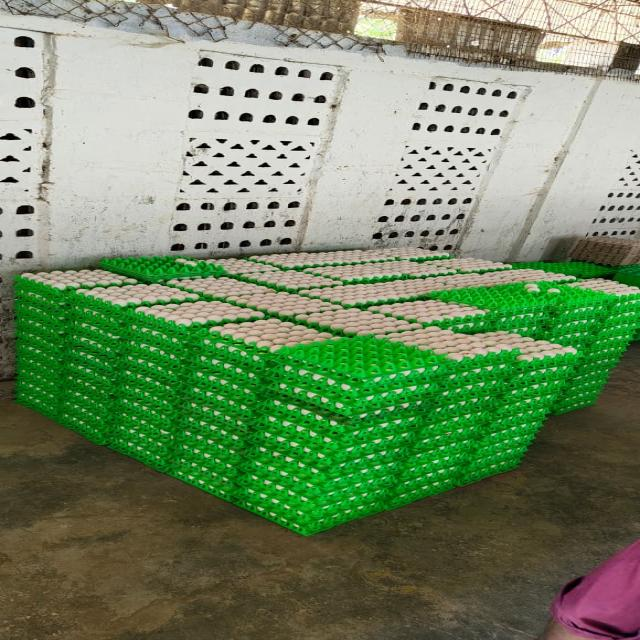egg_tray: (278, 348, 493, 430), (385, 327, 576, 418), (260, 350, 437, 448), (268, 337, 449, 422), (260, 417, 483, 482), (246, 418, 401, 506), (412, 388, 553, 476), (391, 427, 535, 506), (278, 337, 446, 396), (470, 332, 578, 422), (114, 340, 188, 470), (300, 270, 557, 306), (299, 270, 564, 304), (17, 349, 111, 444), (72, 284, 198, 354), (15, 269, 136, 341), (194, 318, 339, 378), (129, 300, 264, 364), (433, 283, 609, 332), (256, 398, 423, 448), (246, 447, 399, 500), (430, 283, 583, 336), (227, 292, 418, 334), (253, 422, 413, 472), (247, 443, 396, 496), (252, 419, 412, 468), (248, 440, 407, 489), (181, 358, 266, 449), (177, 381, 252, 480), (258, 394, 422, 439), (374, 416, 467, 495), (274, 379, 436, 424), (384, 327, 576, 364), (474, 380, 565, 458), (236, 488, 386, 535), (253, 423, 414, 466), (550, 280, 639, 357), (238, 488, 386, 534), (73, 284, 198, 337), (247, 460, 385, 508), (56, 336, 117, 444), (177, 278, 341, 318), (435, 282, 609, 319), (173, 416, 245, 504), (17, 270, 137, 321), (179, 376, 255, 456), (545, 287, 637, 351), (113, 343, 182, 428), (433, 283, 563, 328), (15, 284, 68, 390), (172, 418, 242, 498), (185, 368, 263, 439), (489, 363, 569, 430), (384, 326, 514, 366), (201, 368, 269, 444), (458, 421, 540, 484), (184, 332, 270, 392), (552, 345, 626, 414), (183, 376, 258, 444), (300, 275, 462, 306), (306, 258, 510, 282), (110, 396, 173, 471), (456, 429, 536, 486), (300, 276, 451, 306), (205, 318, 337, 352), (387, 452, 458, 509), (431, 282, 565, 312), (252, 248, 451, 268), (114, 352, 182, 409), (550, 286, 634, 332), (472, 406, 547, 456), (110, 411, 172, 471), (269, 360, 361, 400), (118, 338, 183, 394), (15, 282, 70, 348), (171, 456, 243, 506), (56, 380, 113, 443), (136, 300, 264, 328), (225, 289, 342, 319), (53, 386, 113, 444), (181, 371, 249, 422), (115, 376, 180, 429), (468, 331, 577, 362), (126, 412, 184, 470), (370, 300, 490, 328), (566, 280, 639, 326), (17, 310, 63, 383), (296, 308, 420, 335), (305, 260, 456, 282), (536, 282, 618, 322), (17, 338, 58, 418), (17, 305, 67, 370), (185, 350, 262, 392), (193, 334, 268, 377), (100, 256, 224, 282), (14, 290, 70, 347), (436, 310, 544, 338), (541, 283, 618, 322), (457, 444, 527, 486), (18, 329, 63, 394), (61, 348, 116, 401), (17, 330, 64, 392), (77, 284, 198, 308), (387, 470, 458, 510), (66, 314, 125, 357), (444, 269, 575, 288), (20, 269, 138, 290), (442, 270, 575, 288), (167, 277, 271, 300), (544, 307, 615, 340), (401, 443, 466, 478), (238, 270, 340, 291), (542, 316, 604, 350), (15, 277, 66, 318), (252, 250, 365, 268), (569, 236, 639, 265), (15, 277, 67, 316), (167, 278, 267, 298), (22, 270, 131, 288), (580, 332, 631, 370), (552, 379, 605, 414), (538, 318, 598, 348), (424, 270, 510, 290), (514, 261, 615, 278), (564, 358, 609, 396), (583, 326, 634, 358), (604, 287, 639, 333), (593, 312, 639, 346), (567, 278, 639, 298), (564, 366, 609, 397), (562, 370, 607, 400), (482, 269, 576, 283), (68, 348, 114, 375), (202, 258, 279, 274), (589, 264, 639, 286), (551, 394, 598, 415), (377, 370, 431, 388), (429, 274, 498, 288), (372, 248, 452, 260), (447, 258, 511, 272), (580, 349, 622, 370), (504, 270, 556, 281), (423, 419, 458, 434), (460, 413, 499, 426), (524, 282, 559, 293), (175, 258, 211, 266), (398, 283, 424, 293), (486, 358, 505, 370), (378, 411, 398, 422), (298, 364, 320, 373), (334, 424, 356, 432), (424, 487, 445, 494), (205, 350, 217, 360), (380, 338, 391, 346), (449, 352, 462, 358), (455, 342, 468, 348), (414, 348, 427, 354), (473, 363, 481, 371), (472, 358, 478, 368), (323, 340, 338, 344), (342, 338, 356, 342), (202, 381, 210, 388), (278, 454, 284, 462), (326, 373, 335, 378), (392, 444, 399, 450), (449, 360, 456, 366), (366, 460, 376, 464), (543, 398, 547, 408), (366, 386, 375, 390), (462, 358, 468, 364), (242, 414, 248, 420), (576, 370, 585, 374), (470, 360, 477, 365), (76, 300, 87, 303), (346, 339, 354, 343), (424, 438, 428, 446), (566, 276, 574, 280), (410, 424, 416, 429), (383, 448, 388, 454), (494, 443, 500, 448), (238, 428, 243, 434), (524, 284, 531, 288), (353, 491, 360, 495), (342, 340, 351, 343), (236, 458, 241, 463), (416, 458, 419, 466), (396, 343, 403, 346), (487, 366, 491, 371), (273, 352, 277, 357), (32, 366, 36, 371), (238, 260, 247, 262), (310, 491, 316, 494), (19, 334, 23, 338), (280, 350, 284, 354), (319, 389, 324, 392), (558, 380, 563, 383), (568, 276, 573, 279), (489, 372, 492, 377), (489, 378, 492, 383), (255, 396, 258, 400), (189, 418, 192, 422), (354, 488, 360, 490), (233, 323, 238, 325), (532, 389, 535, 392), (221, 325, 224, 328), (308, 465, 311, 468), (188, 361, 191, 364), (390, 349, 393, 352), (280, 454, 284, 456), (462, 416, 466, 418), (308, 344, 312, 346), (87, 372, 89, 376), (523, 412, 527, 414), (354, 492, 358, 494), (460, 482, 467, 483), (521, 410, 524, 412), (479, 301, 481, 304), (188, 359, 191, 361), (374, 481, 376, 484), (314, 434, 320, 435), (468, 402, 471, 404), (348, 460, 349, 464), (381, 456, 382, 460), (472, 403, 476, 404), (480, 357, 482, 359), (292, 349, 294, 351), (336, 478, 338, 480), (385, 456, 387, 458), (62, 327, 63, 330), (578, 295, 579, 298), (388, 447, 389, 449), (328, 482, 330, 483), (403, 422, 404, 424), (384, 457, 385, 459), (458, 346, 459, 348), (418, 470, 419, 472), (226, 372, 228, 373), (422, 368, 423, 368), (51, 290, 52, 290), (280, 492, 282, 492), (568, 290, 570, 290), (344, 339, 348, 339), (420, 434, 420, 435), (494, 369, 494, 371), (562, 341, 562, 343), (314, 432, 314, 432), (282, 421, 284, 421), (307, 392, 310, 392), (592, 359, 592, 362), (417, 496, 418, 496), (402, 448, 402, 448), (286, 350, 288, 350), (297, 348, 304, 348), (156, 467, 156, 468), (144, 338, 144, 338), (144, 408, 146, 408), (612, 299, 614, 299), (582, 276, 584, 276), (430, 460, 430, 462), (496, 472, 496, 472), (117, 303, 120, 303), (214, 439, 216, 439), (421, 496, 422, 496), (398, 443, 401, 443), (444, 428, 446, 428), (442, 423, 443, 423), (515, 418, 519, 418), (272, 423, 272, 423), (443, 261, 447, 261), (371, 379, 372, 379), (380, 344, 380, 346), (353, 339, 355, 339), (215, 412, 219, 412), (432, 468, 432, 468)
